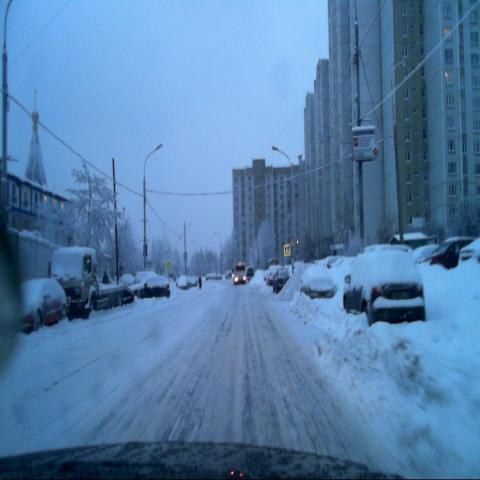5_19_1: (282, 245, 290, 259), (165, 259, 173, 271)
